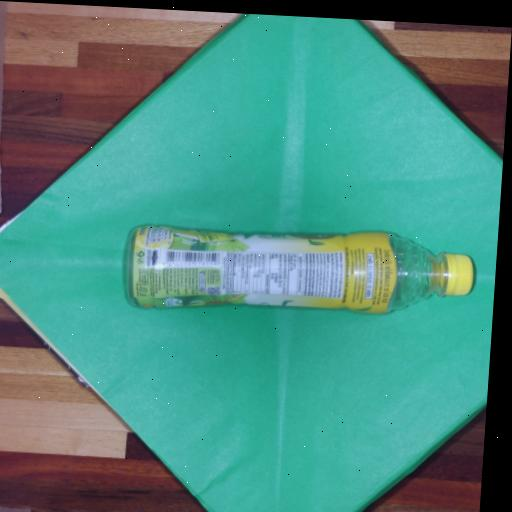bottle: (122, 216, 478, 322)
